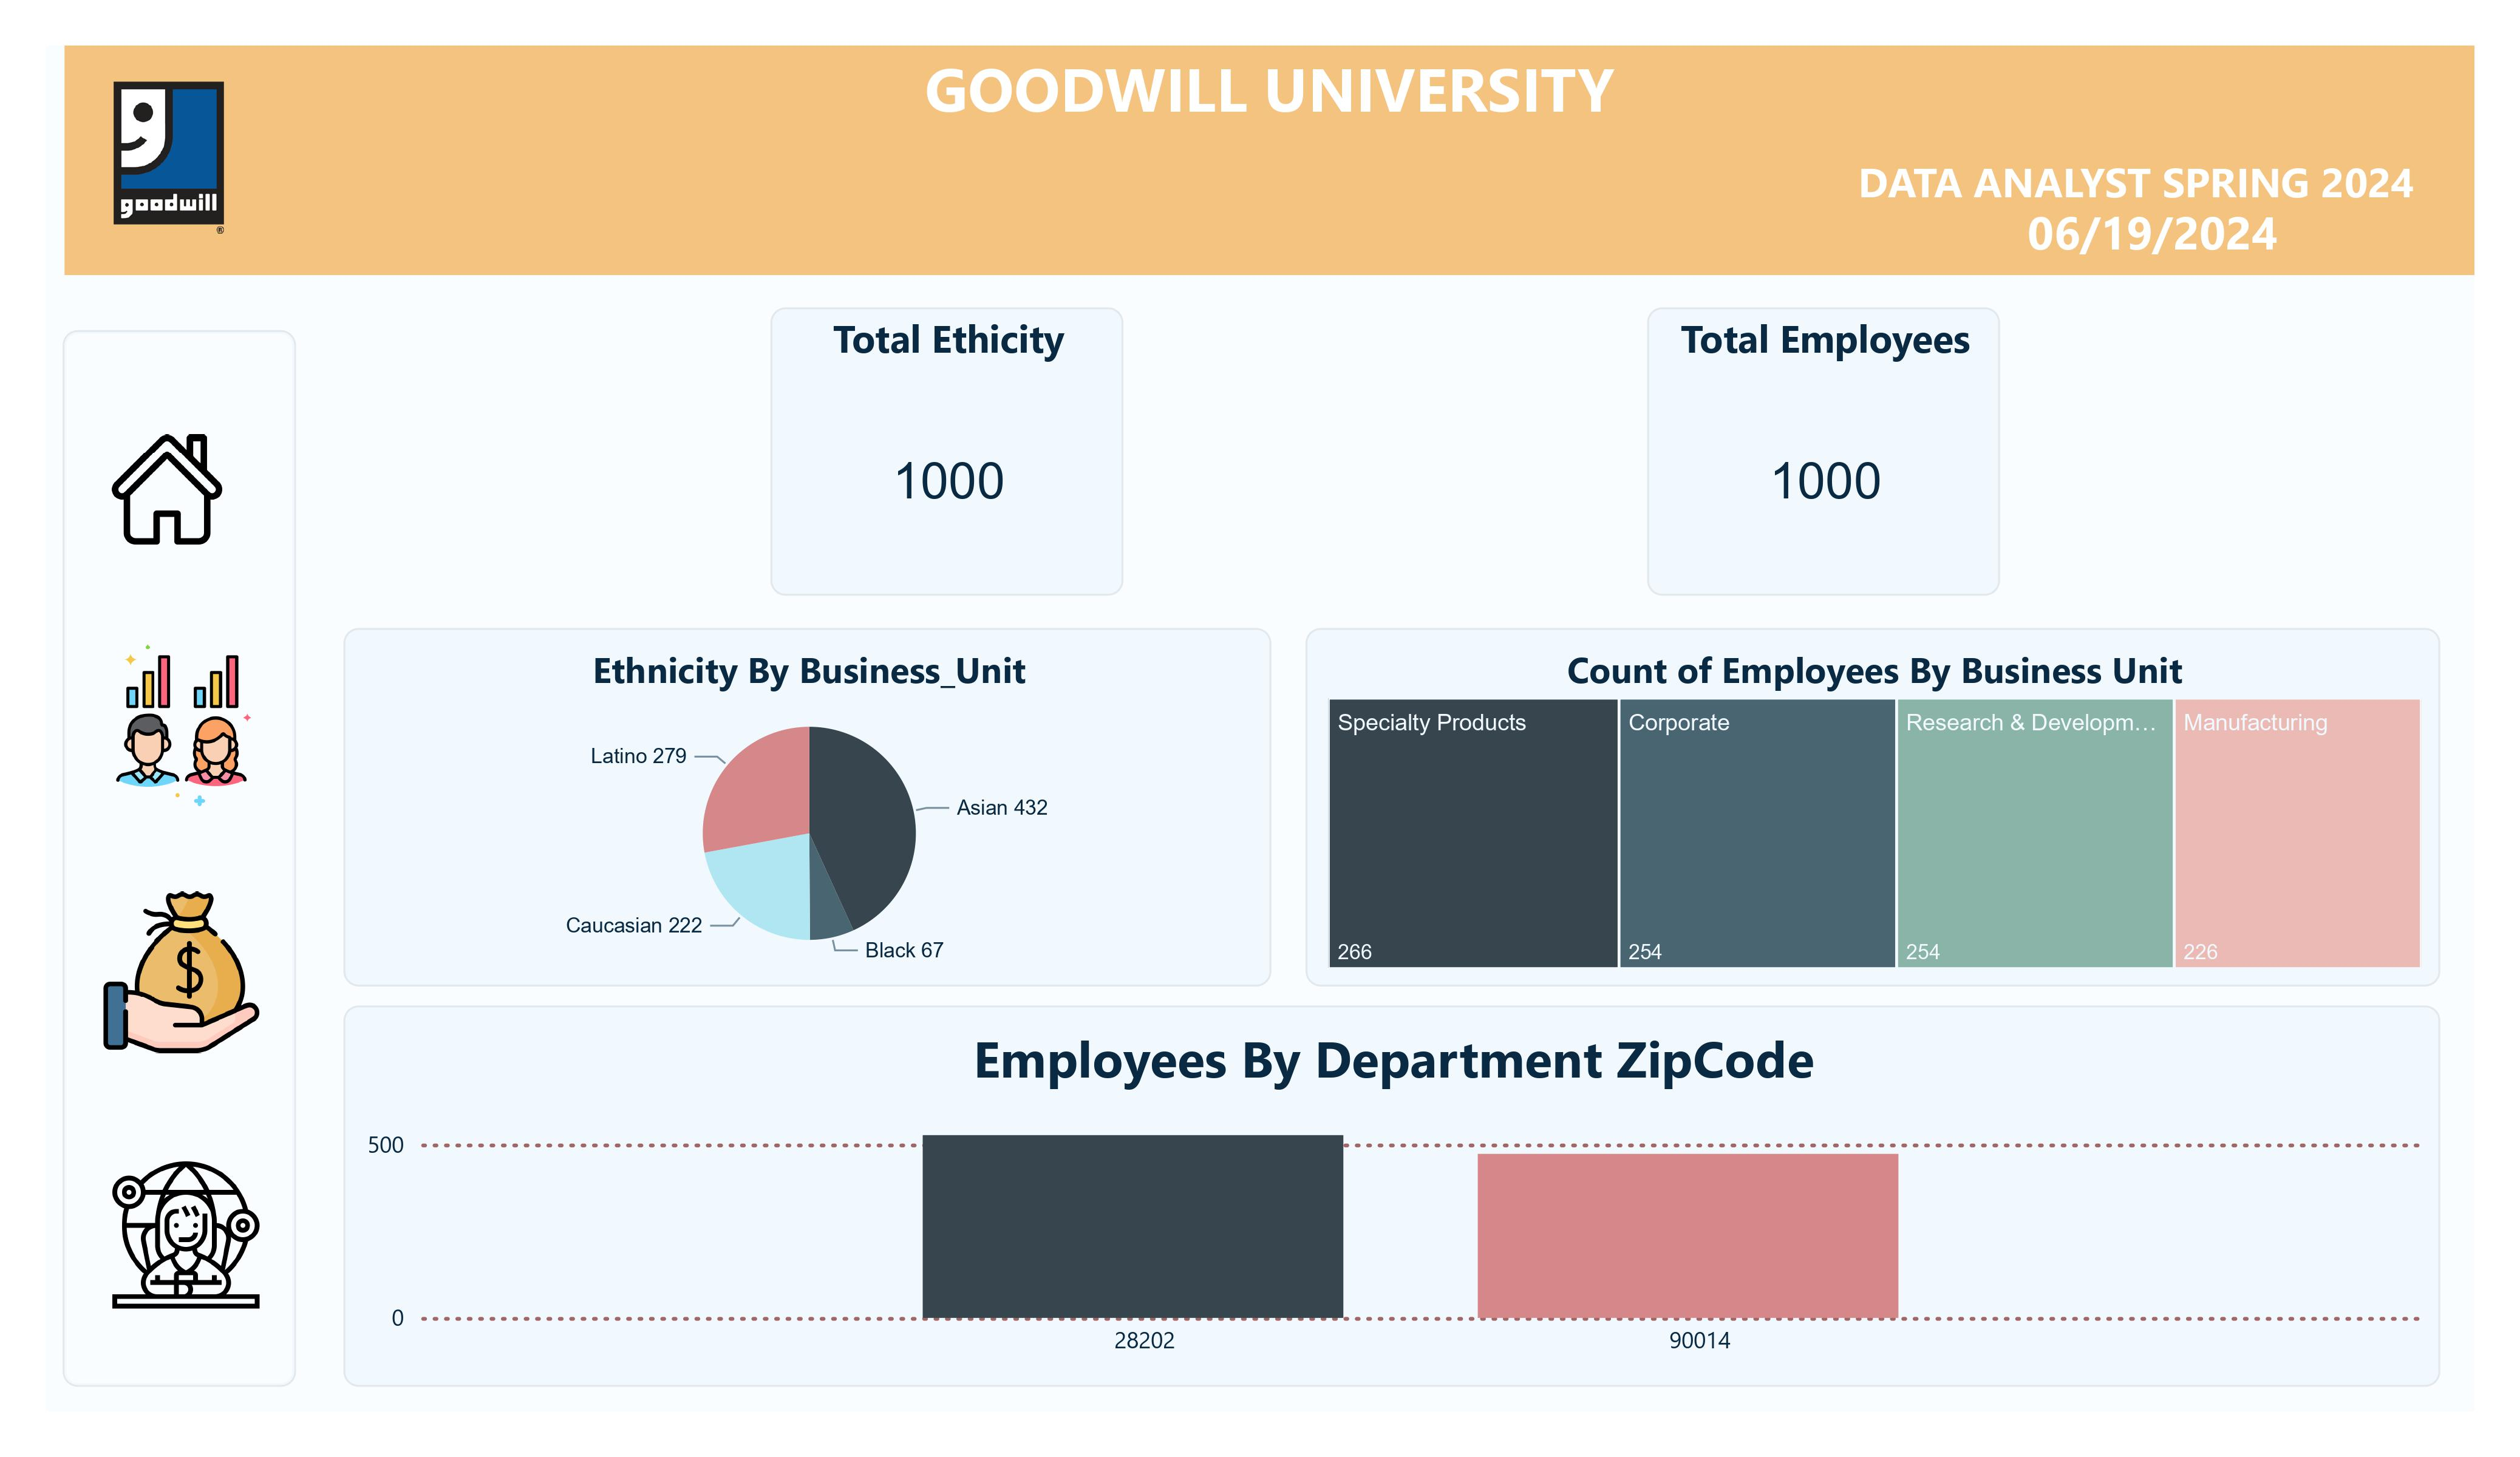

What the dashboard file says about the page in this screenshot:
{"tool":"powerbi","page":{"name":"Employee Demographics and Distribution","canvas":[1280,720],"ordinal":1},"visuals":[{"type":"textbox","box":[10.2,0,1269.6,120.8],"z":0},{"type":"image","box":[25.5,0,78.3,120.8],"z":1000},{"type":"card","fields":{"Values":["Key Measures.FormattedTodayDate"]},"box":[1028.5,78.4,163.6,42.6],"z":2000},{"type":"shape","box":[10.2,151.5,120.8,554.8],"z":3000},{"type":"image","box":[24.6,179.3,78.4,112],"z":4000},{"type":"image","box":[18.7,308,105.5,103.8],"z":5000},{"type":"image","box":[18.7,428.9,105.5,122.5],"z":6000},{"type":"image","box":[23.8,563.3,100.4,131],"z":7000},{"type":"pieChart","title":"Ethnicity By Business_Unit","fields":{"Category":["EmployeeSampleDataCSV.Ethnicity"],"Y":["CountNonNull(EmployeeSampleDataCSV.Business_Unit)"]},"box":[158.3,308,486.7,187.2],"z":8000},{"type":"treemap","title":"Count of Employees By Business Unit","fields":{"Values":["CountNonNull(EmployeeSampleDataCSV.Employee_ID)"],"Group":["EmployeeSampleDataCSV.Business_Unit"]},"box":[665.4,308,595.7,187.2],"z":9000},{"type":"columnChart","title":"Employees By Department ZipCode","fields":{"Category":["DepartmentSampleDataCSV.Dept_Zip"],"Y":["CountNonNull(EmployeeSampleDataCSV.Employee_ID)"]},"box":[158.3,507.2,1102.8,199.1],"z":10000},{"type":"card","title":"Total Ethicity","fields":{"Values":["Key Measures.Total Ethnicity"]},"box":[383.2,138.9,183.7,150.1],"z":11000},{"type":"card","title":"Total Employees","fields":{"Values":["Key Measures.Total Employees"]},"box":[844.8,138.9,183.7,150.1],"z":12000}]}

Visuals, with their boxes in screenshot pixels (x1, y1, x2, y2):
textbox: <region>65, 46, 2474, 274</region>
image: <region>94, 46, 242, 274</region>
card - Key Measures.FormattedTodayDate: <region>1997, 194, 2307, 275</region>
shape: <region>65, 333, 294, 1385</region>
image: <region>92, 385, 241, 598</region>
image: <region>81, 630, 281, 827</region>
image: <region>81, 859, 281, 1092</region>
image: <region>90, 1114, 281, 1363</region>
"Ethnicity By Business_Unit" pieChart: <region>346, 630, 1270, 985</region>
"Count of Employees By Business Unit" treemap: <region>1308, 630, 2439, 985</region>
"Employees By Department ZipCode" columnChart: <region>346, 1008, 2439, 1385</region>
"Total Ethicity" card: <region>772, 309, 1122, 594</region>
"Total Employees" card: <region>1649, 309, 1997, 594</region>
